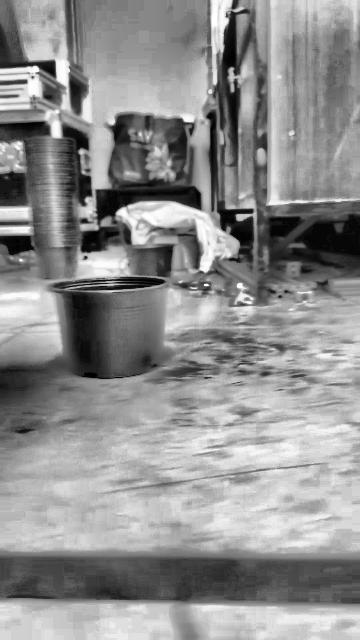pot: (46, 276, 171, 379)
